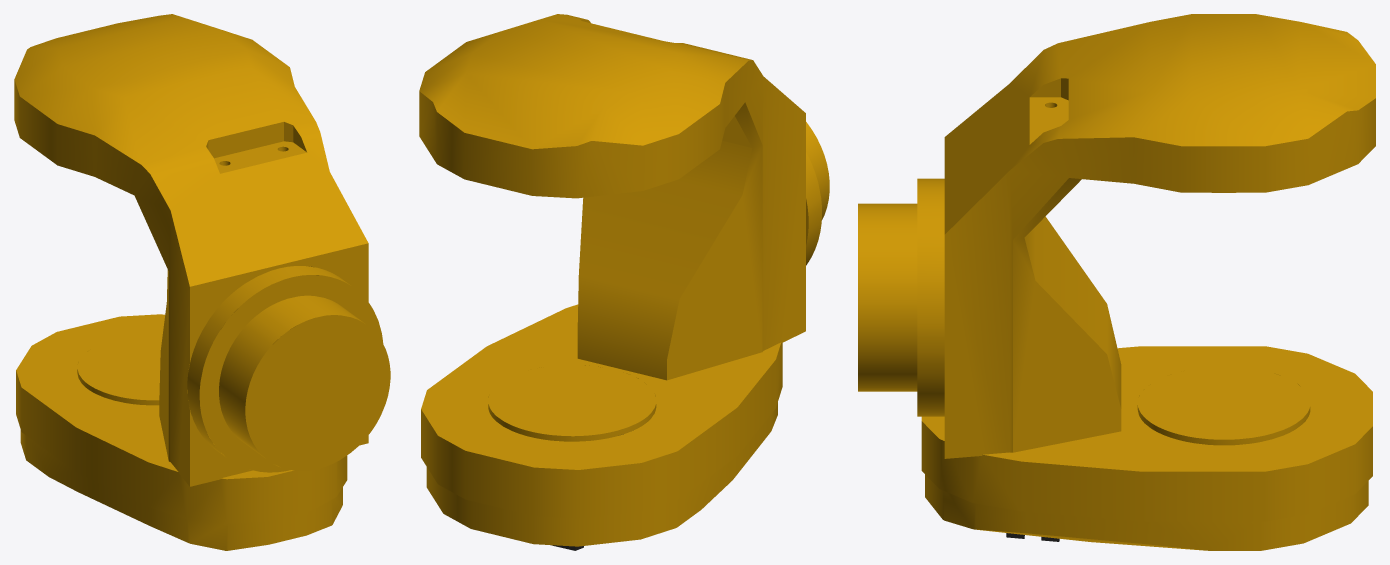
3 renders of one model, left to right at view 1: azimuth 30°, elevation 25°; view 2: azimuth 150°, elevation 25°; view 3: azimuth 270°, elevation 25°, orthographic. The views are drawn at different scales.
Visible parts, largest first — view 1: Link-5; view 2: Link-5; view 3: Link-5.
Part boxes in pixels (x1,y1,x2,y2): Link-5: (14,14,390,550); Link-5: (419,14,829,550); Link-5: (858,14,1375,550).
Bounding box in the file's own units: 0.12 × 0.2066 × 0.2035.
